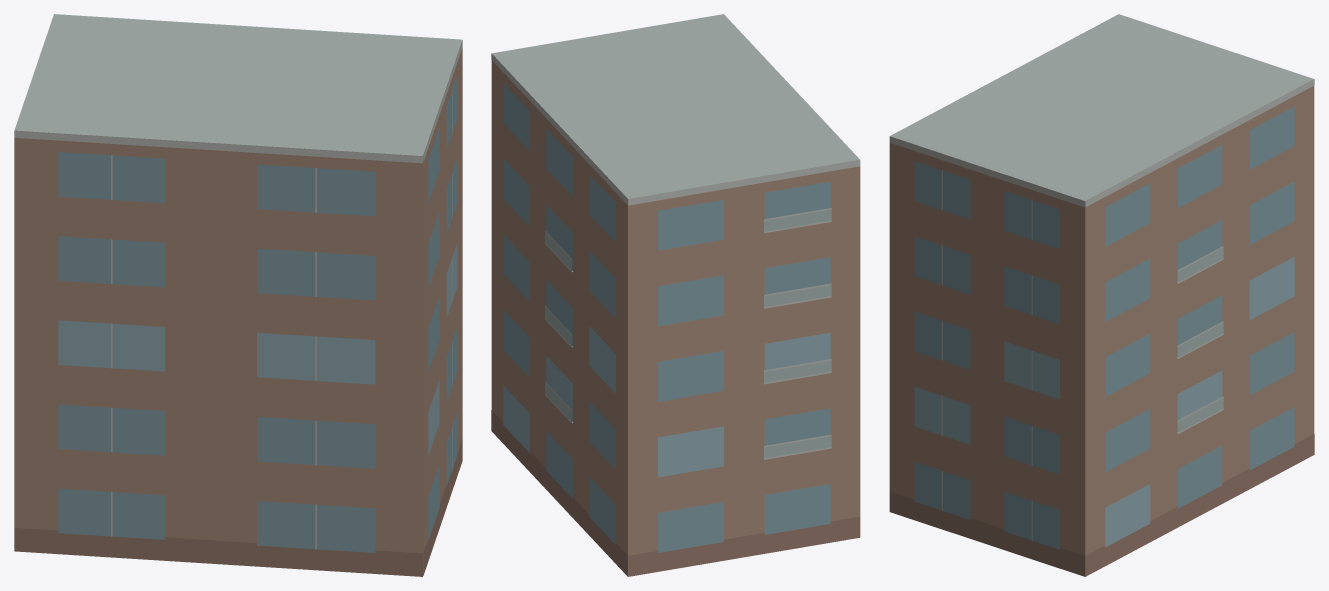
The model's file is survey-upis-32754411.glb.
3 renders of one model, left to right at view 1: azimuth 30°, elevation 25°; view 2: azimuth 150°, elevation 25°; view 3: azimuth 270°, elevation 25°, orthographic. The views are drawn at different scales.
Visible parts, largest first — view 1: survey-upis-32754411.tmp; view 2: survey-upis-32754411.tmp; view 3: survey-upis-32754411.tmp.
Part boxes in pixels (x1,y1,x2,y2): survey-upis-32754411.tmp: [14, 14, 462, 576]; survey-upis-32754411.tmp: [491, 14, 860, 576]; survey-upis-32754411.tmp: [889, 14, 1314, 576].
Bounding box in the file's own units: 15.18 × 14.2 × 14.56.
